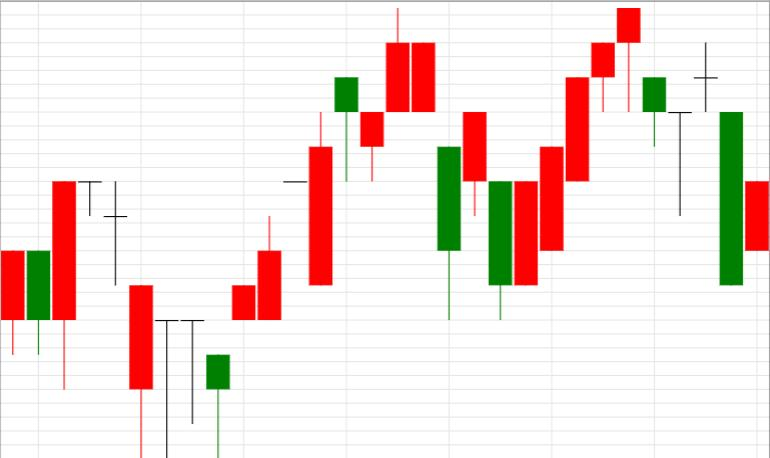hanging_man_fall: (206, 78, 358, 457), (514, 8, 641, 286)
